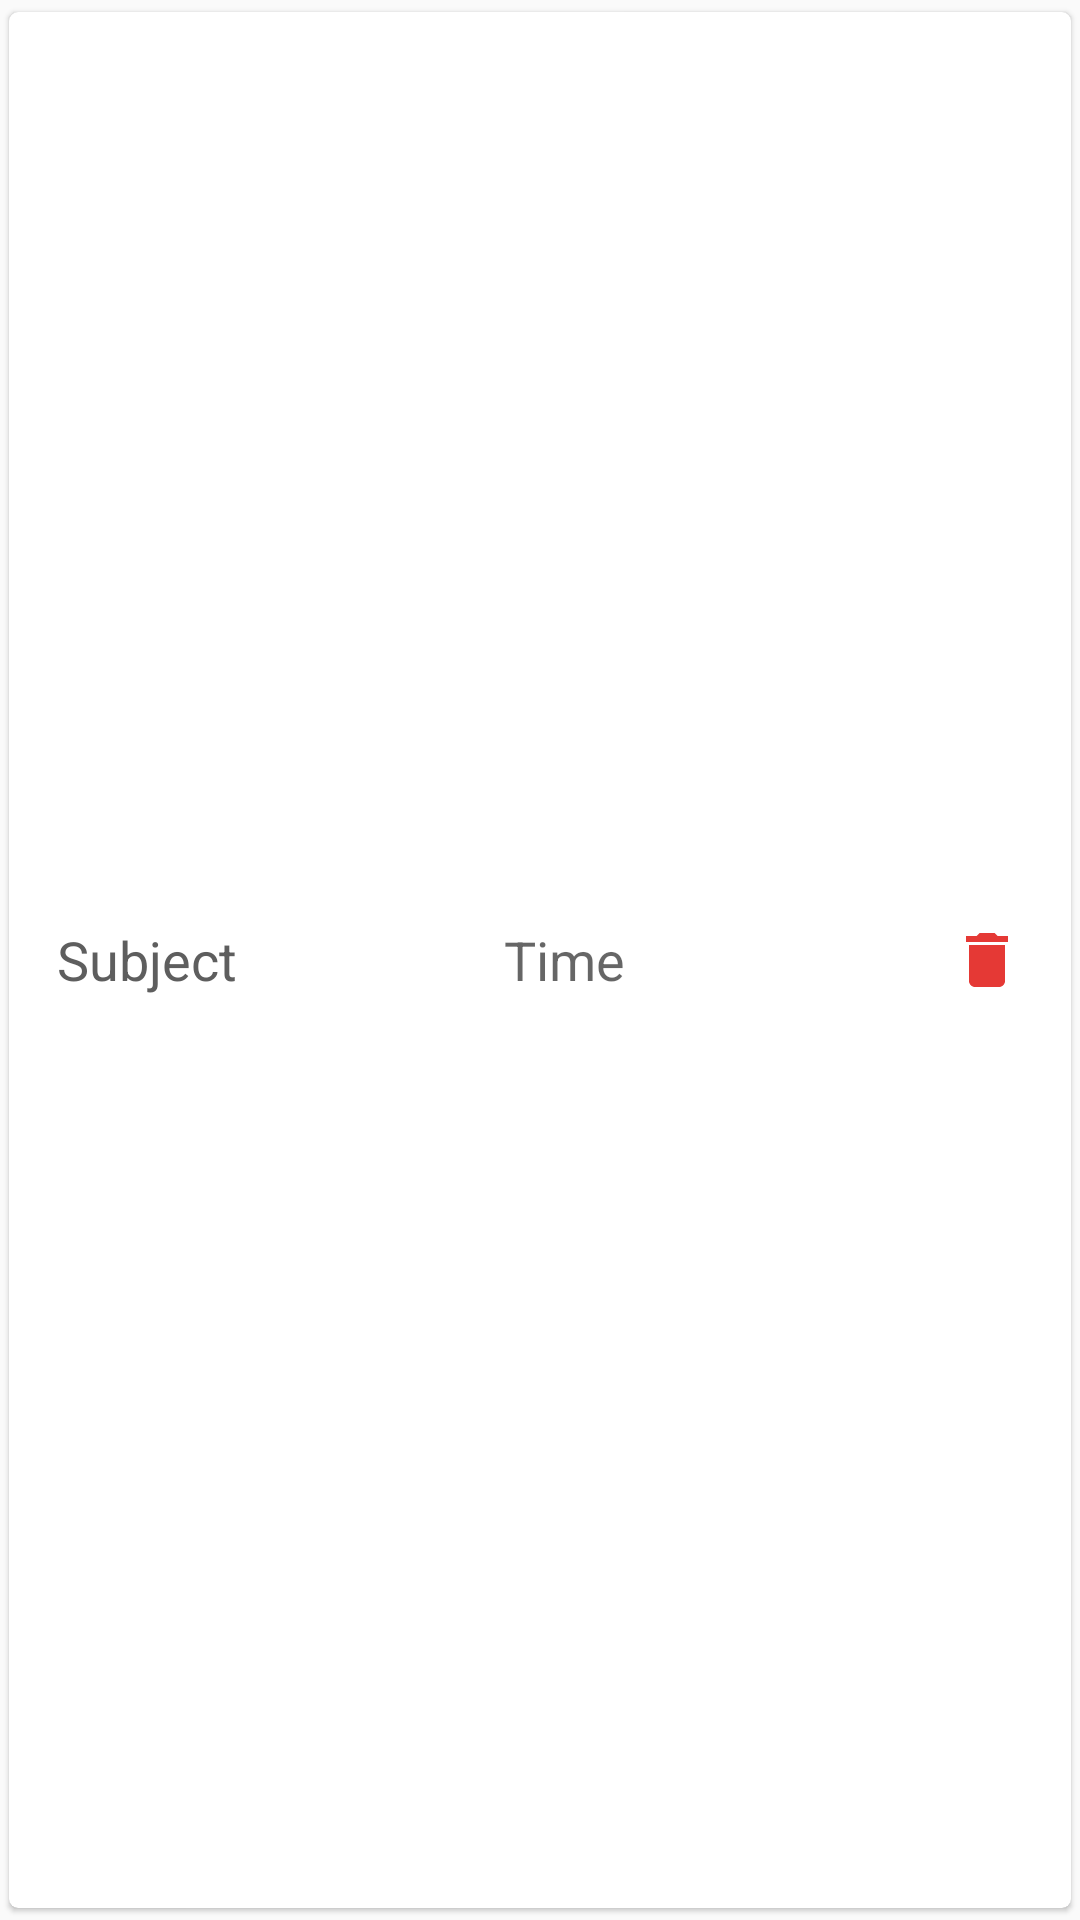

Where icons sit on this 1080 x 1920 app screen, as BBox(x1, y1, x2, y2):
Trash: BBox(966, 933, 1008, 987)
